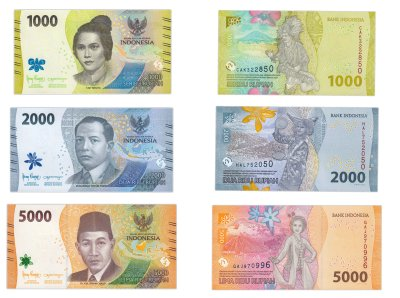cash: (7, 204, 177, 289), (212, 205, 381, 290), (215, 105, 378, 192), (10, 106, 174, 192), (13, 9, 172, 94), (218, 12, 375, 96)
